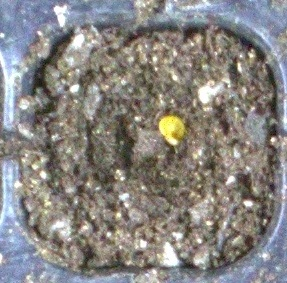chilli seed: (158, 115, 186, 146)
